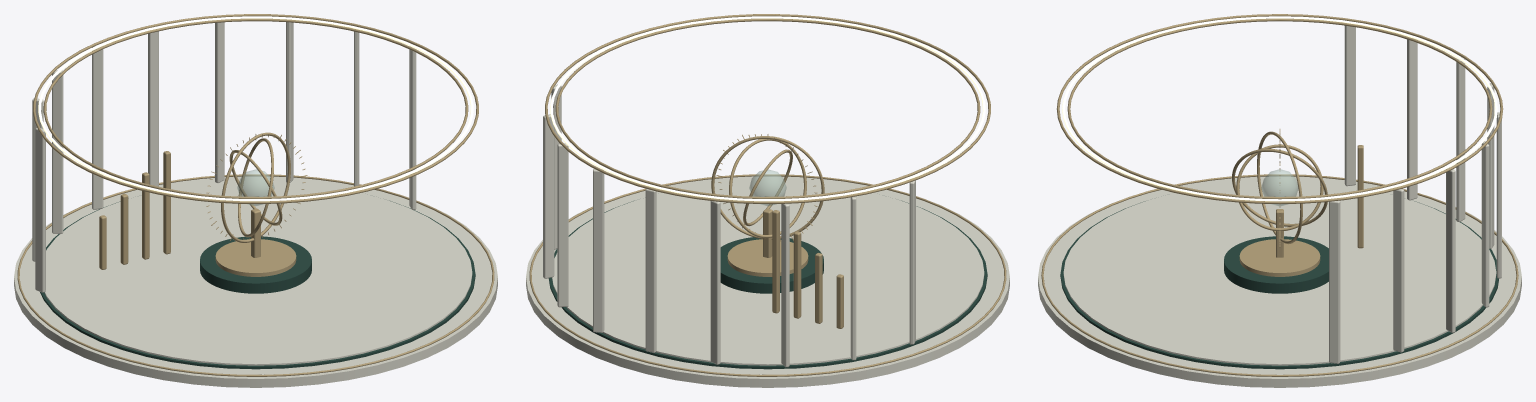
File: trends.glb
3 views of the same model, side by side, from view 1: azimuth 30°, elevation 25°; view 2: azimuth 150°, elevation 25°; view 3: azimuth 270°, elevation 25° (orthographic).
Visible parts, largest first — view 1: trends; view 2: trends; view 3: trends.
Part boxes in pixels (x1,y1,x2,y2): trends: [14, 14, 497, 387]; trends: [526, 14, 1009, 387]; trends: [1038, 14, 1521, 387].
Size of the model in its own units: 10.8 by 4.38 by 10.8.
